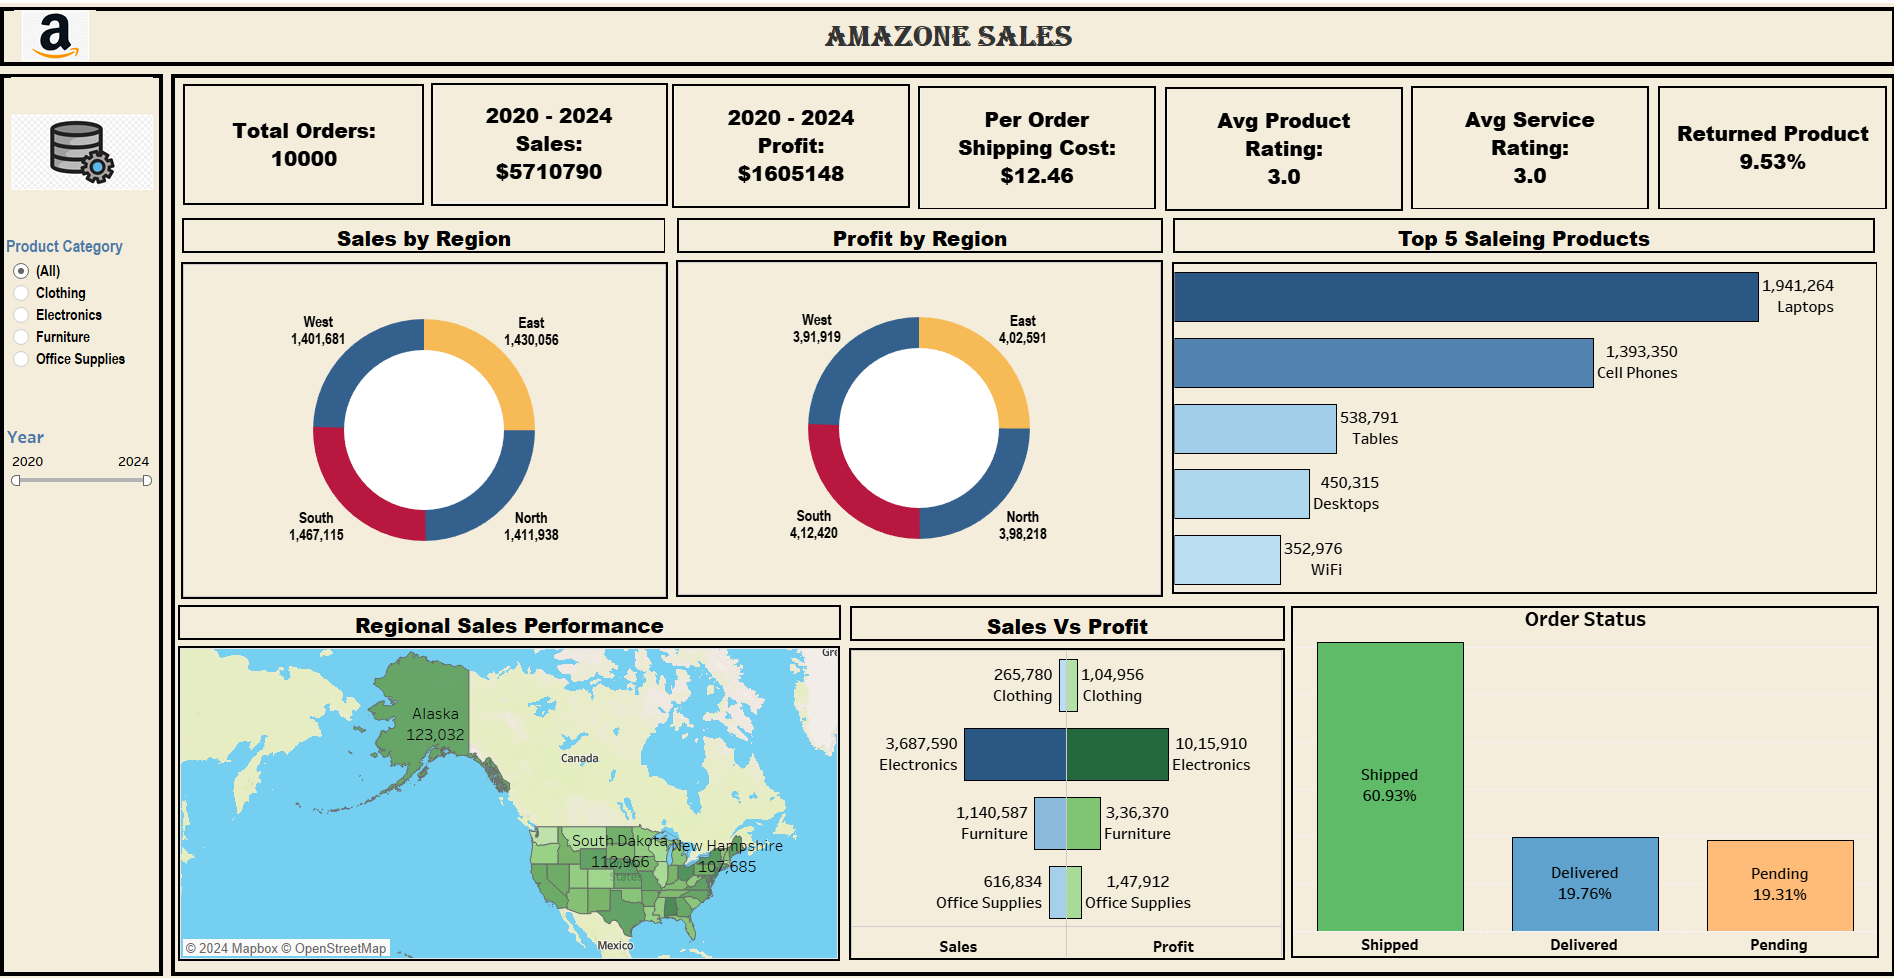

This screenshot's page, from the dashboard's own definition file:
{"tool":"tableau","page":{"name":"Dashboard 1","canvas":[1000,1000],"units":"permille","ordinal":0},"visuals":[{"type":"title","box":[4.8,10,990.5,83.7]},{"type":"image","param":"D:/downloads/Amazon.png","box":[13.7,15,42.9,51.2]},{"type":"dashboard-object","box":[11.9,82.4,73.9,153.6]},{"type":"worksheet","title":"Total Sales","mark":"Text","rows":["Calculation_727894297951326208"],"box":[230.1,87.4,123.9,124.8]},{"type":"worksheet","title":"Total Orders","mark":"Text","rows":["Calculation_727894297951326208"],"box":[101.5,89.9,125.7,122.4]},{"type":"worksheet","title":"Total Profit","mark":"Text","rows":["Calculation_727894297951326208"],"box":[356.3,89.9,123.9,124.8]},{"type":"worksheet","title":"Per Order Shipping Cost","mark":"Text","rows":["Calculation_727894297951326208"],"box":[484.4,91.1,123.9,124.8]},{"type":"worksheet","title":"Service Rating","mark":"Text","rows":["Calculation_727894297951326208"],"box":[741,91.1,123.9,124.8]},{"type":"worksheet","title":"Return Product percentage","mark":"Text","rows":["Calculation_727894297951326208"],"box":[870,91.1,119.3,124.8]},{"type":"worksheet","title":"Product Rating","mark":"Text","rows":["Calculation_727894297951326208"],"box":[613,92.4,123.9,124.8]},{"type":"worksheet","title":"Blank Needed Sheet","mark":"Automatic","box":[4.8,93.6,89,896.4]},{"type":"worksheet","title":"Sheet 37","mark":"Automatic","box":[93.8,93.6,901.4,896.4]},{"type":"worksheet","title":"Heading 1","mark":"Automatic","box":[100.9,224.7,251.9,35]},{"type":"worksheet","title":"Heading 3","mark":"Automatic","box":[358.7,224.7,253.1,35]},{"type":"worksheet","title":"Heading 4","mark":"Automatic","box":[617.1,224.7,365.8,35]},{"type":"filter","title":"Region Wise Sales","param":"[federated.0or5l190kw7jja19xw37s0vko21c].[none:ProductCategory:nk]","box":[9.5,242.2,78.1,168.5]},{"type":"worksheet","title":"Region Wise Profit","mark":"Pie","rows":["Calculation_727894297951326208","Calculation_727894297951326208"],"box":[358.1,267.2,253.7,339.6]},{"type":"worksheet","title":"Region Wise Sales","mark":"Pie","rows":["Calculation_727894297951326208","Calculation_727894297951326208"],"box":[100.3,268.4,253.7,339.6]},{"type":"worksheet","title":"Top Selling Products","mark":"Automatic","rows":["ProductSubCategory"],"cols":["Sales"],"box":[616.5,268.4,367.6,334.6]},{"type":"filter","title":"Category Wise sales","param":"[federated.0or5l190kw7jja19xw37s0vko21c].[none:year:qk]","box":[10.1,433.2,77.5,83.7]},{"type":"worksheet","title":"Sheet 18","mark":"Automatic","box":[99.1,614.2,345.1,35]},{"type":"worksheet","title":"Heading 2","mark":"Automatic","box":[449,615.5,226.6,35]},{"type":"worksheet","title":"Order Status","mark":"Bar","rows":["OrderID"],"cols":["OrderStatus"],"box":[678.5,615.5,306.2,354.6]},{"type":"worksheet","title":"Sales On Map","mark":"Multipolygon","box":[99.1,655.4,344.5,317.1]},{"type":"worksheet","title":"Category Wise sales","mark":"Automatic","rows":["ProductCategory"],"cols":["Sales","Profit"],"box":[448.4,657.9,227.1,314.6]}]}

Visuals, with their boxes on the dashboard's canvas, which has no fixed pixel size, in thousandths of its width and height (x1, y1, x2, y2). These are canvas units, not pixel positions in the 1894x978 screenshot, which may show the page scaled, cropped or inside an application window:
title: [5,10,995,94]
image: [14,15,57,66]
dashboard-object: [12,82,86,236]
"Total Sales" worksheet (Text marks): [230,87,354,212]
"Total Orders" worksheet (Text marks): [102,90,227,212]
"Total Profit" worksheet (Text marks): [356,90,480,215]
"Per Order Shipping Cost" worksheet (Text marks): [484,91,608,216]
"Service Rating" worksheet (Text marks): [741,91,865,216]
"Return Product percentage" worksheet (Text marks): [870,91,989,216]
"Product Rating" worksheet (Text marks): [613,92,737,217]
"Blank Needed Sheet" worksheet: [5,94,94,990]
"Sheet 37" worksheet: [94,94,995,990]
"Heading 1" worksheet: [101,225,353,260]
"Heading 3" worksheet: [359,225,612,260]
"Heading 4" worksheet: [617,225,983,260]
"Region Wise Sales" filter: [10,242,88,411]
"Region Wise Profit" worksheet (Pie marks): [358,267,612,607]
"Region Wise Sales" worksheet (Pie marks): [100,268,354,608]
"Top Selling Products" worksheet: [616,268,984,603]
"Category Wise sales" filter: [10,433,88,517]
"Sheet 18" worksheet: [99,614,444,649]
"Heading 2" worksheet: [449,616,676,650]
"Order Status" worksheet (Bar marks): [678,616,985,970]
"Sales On Map" worksheet (Multipolygon marks): [99,655,444,972]
"Category Wise sales" worksheet: [448,658,676,972]
